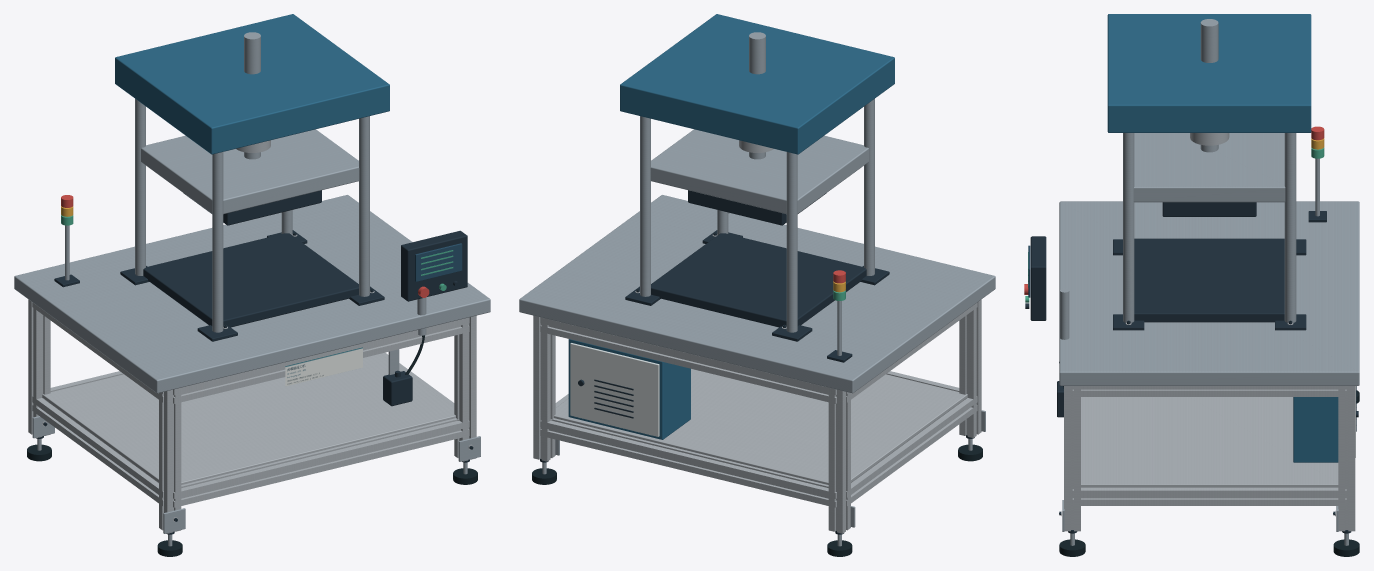
File: hot-forging-cell.glb
The picture shows the model from 3 angles, left to right: view 1: azimuth 30°, elevation 25°; view 2: azimuth 150°, elevation 25°; view 3: azimuth 270°, elevation 25°; orthographic projection. The views are drawn at different scales.
Visible parts, largest first — view 1: ClosedMachineBed_40, LowerShelf_41, PressCrown_91, LowerDie_96, ToolPlate_93, SlottedExtrusion_34, SlottedExtrusion_35, SlottedExtrusion_11, SlottedExtrusion_36, SlottedExtrusion_27, ConsoleBack_52, SlottedExtrusion_3 (+9 smaller); view 2: ClosedMachineBed_40, PressCrown_91, LowerShelf_41, LowerDie_96, ToolPlate_93, BackDoor_43, SlottedExtrusion_32, SlottedExtrusion_33, SlottedExtrusion_3, SlottedExtrusion_19, Cabinet_42, SlottedExtrusion_36 (+7 smaller); view 3: ClosedMachineBed_40, PressCrown_91, LowerShelf_41, LowerDie_96, ToolPlate_93, SlottedExtrusion_38, Cabinet_42, SlottedExtrusion_39, SlottedExtrusion_19, SlottedExtrusion_27, GuideColumn_81, GuideColumn_86 (+5 smaller).
Part boxes in pixels (x1=…): ClosedMachineBed_40: x1=14, y1=195, x2=490, y2=393; LowerShelf_41: x1=42, y1=354, x2=455, y2=484; PressCrown_91: x1=115, y1=14, x2=389, y2=154; LowerDie_96: x1=143, y1=233, x2=358, y2=327; ToolPlate_93: x1=141, y1=129, x2=359, y2=214; SlottedExtrusion_34: x1=173, y1=418, x2=469, y2=507; SlottedExtrusion_35: x1=173, y1=317, x2=469, y2=403; SlottedExtrusion_11: x1=159, y1=388, x2=181, y2=533; SlottedExtrusion_36: x1=32, y1=396, x2=163, y2=506; SlottedExtrusion_27: x1=454, y1=315, x2=476, y2=461; ConsoleBack_52: x1=401, y1=230, x2=467, y2=301; SlottedExtrusion_3: x1=28, y1=299, x2=50, y2=437; ClosedMachineBed_40: x1=519, y1=195, x2=995, y2=393; PressCrown_91: x1=620, y1=14, x2=894, y2=154; LowerShelf_41: x1=554, y1=369, x2=967, y2=484; LowerDie_96: x1=651, y1=233, x2=866, y2=327; ToolPlate_93: x1=650, y1=129, x2=868, y2=214; BackDoor_43: x1=570, y1=343, x2=659, y2=436; SlottedExtrusion_32: x1=540, y1=418, x2=836, y2=507; SlottedExtrusion_33: x1=540, y1=317, x2=836, y2=403; SlottedExtrusion_3: x1=828, y1=388, x2=850, y2=533; SlottedExtrusion_19: x1=533, y1=315, x2=555, y2=461; Cabinet_42: x1=568, y1=339, x2=690, y2=439; SlottedExtrusion_36: x1=846, y1=396, x2=977, y2=506; ClosedMachineBed_40: x1=1059, y1=201, x2=1359, y2=385; PressCrown_91: x1=1107, y1=14, x2=1311, y2=132; LowerShelf_41: x1=1081, y1=397, x2=1338, y2=487; LowerDie_96: x1=1134, y1=238, x2=1284, y2=322; ToolPlate_93: x1=1133, y1=133, x2=1285, y2=202; SlottedExtrusion_38: x1=1072, y1=487, x2=1346, y2=505; Cabinet_42: x1=1293, y1=397, x2=1338, y2=462; SlottedExtrusion_39: x1=1072, y1=386, x2=1346, y2=396; SlottedExtrusion_19: x1=1338, y1=386, x2=1355, y2=531; SlottedExtrusion_27: x1=1064, y1=386, x2=1080, y2=531; GuideColumn_81: x1=1284, y1=133, x2=1296, y2=322; GuideColumn_86: x1=1123, y1=133, x2=1134, y2=322.
Size of the model in its own units: 1.55 by 1.91 by 1.29.
11 materials, 3 textured.
